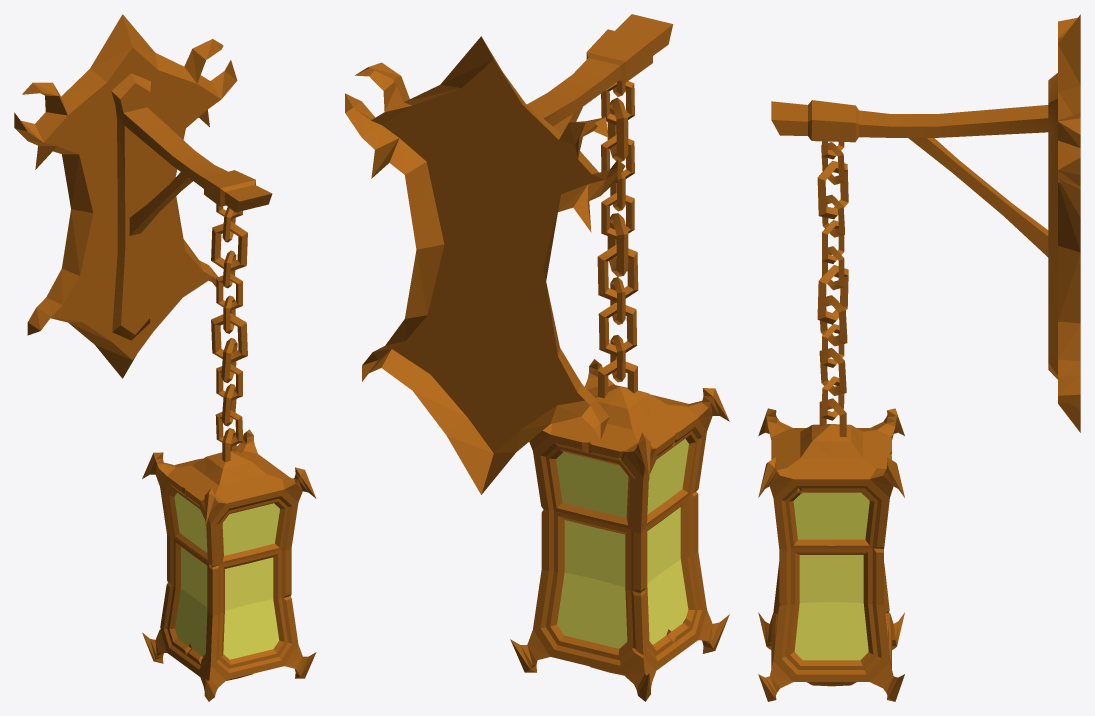
The model's file is testScene_lamp.FBX.
3 renders of one model, left to right at view 1: azimuth 30°, elevation 25°; view 2: azimuth 150°, elevation 25°; view 3: azimuth 270°, elevation 25°, orthographic. The views are drawn at different scales.
Visible parts, largest first — view 1: testScene_lamp; view 2: testScene_lamp; view 3: testScene_lamp.
Boxes of the visible parts, x1,y1,x2,y2 form: testScene_lamp: [14, 14, 316, 701]; testScene_lamp: [345, 14, 729, 701]; testScene_lamp: [758, 14, 1080, 701].
Size of the model in its own units: 0.7282 by 1.88 by 0.8177.
